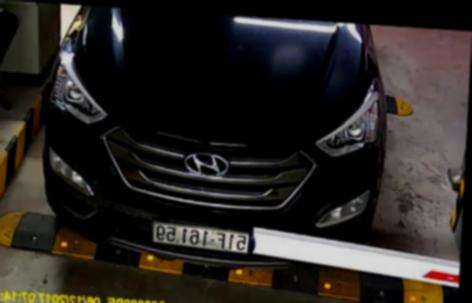License_Plate: (148, 218, 254, 253)
